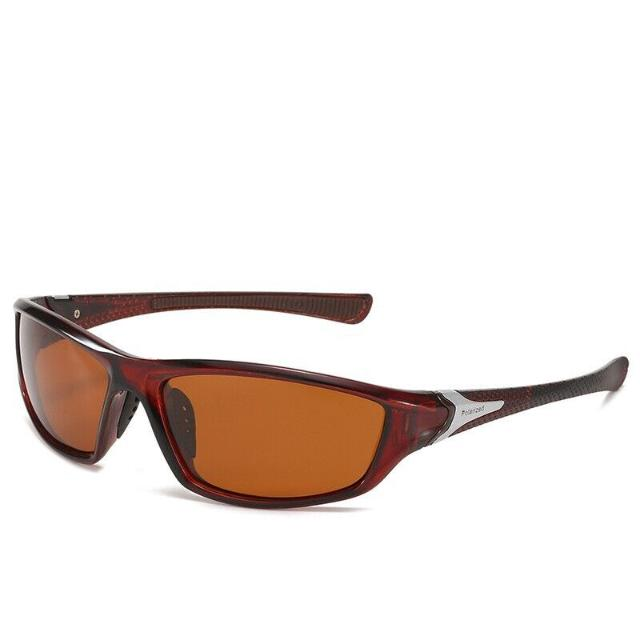Sunglasses: (14, 291, 628, 511)
